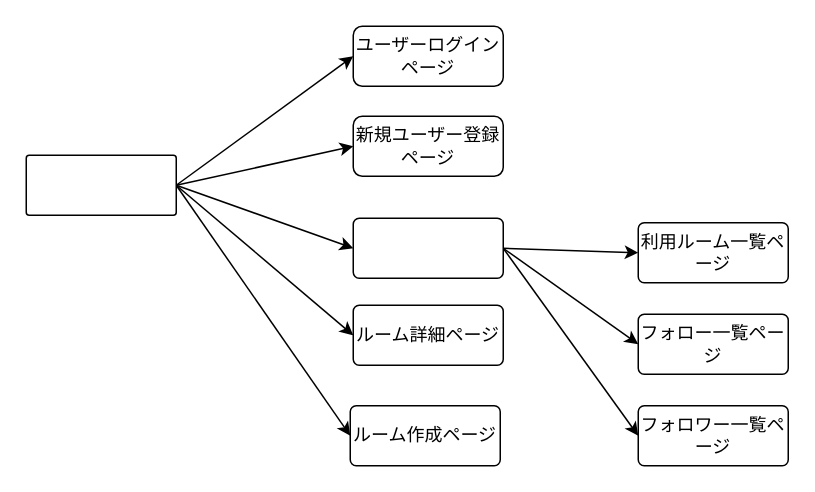
This 815x492 diagram has some shape labels left out. The shapes that lost their labels are listed below. From the top down, each one's centre as x and y in pixels, then its label:
At point (100, 184): "トップページ".
At point (427, 247): "ユーザーマイページ".
